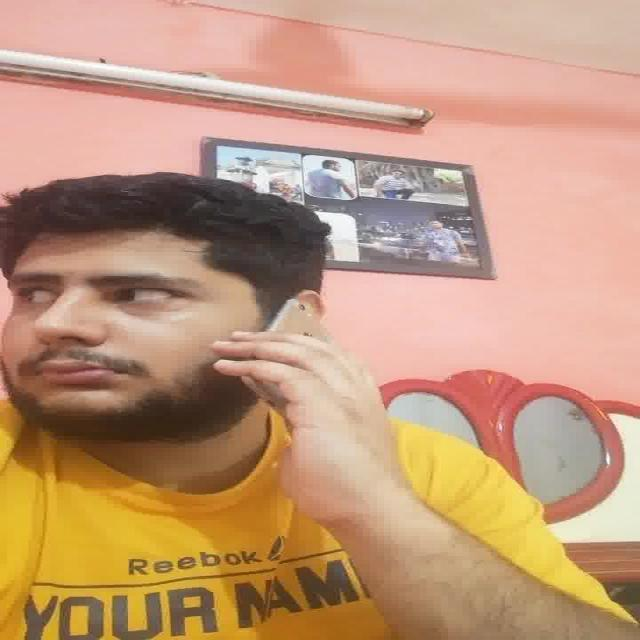Phone: (262, 295, 333, 348)
